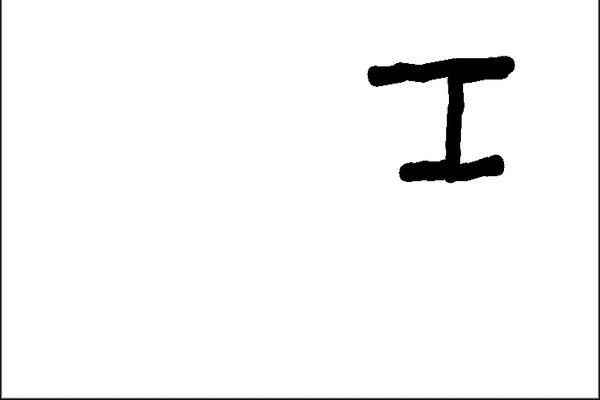i: (356, 50, 527, 198)
